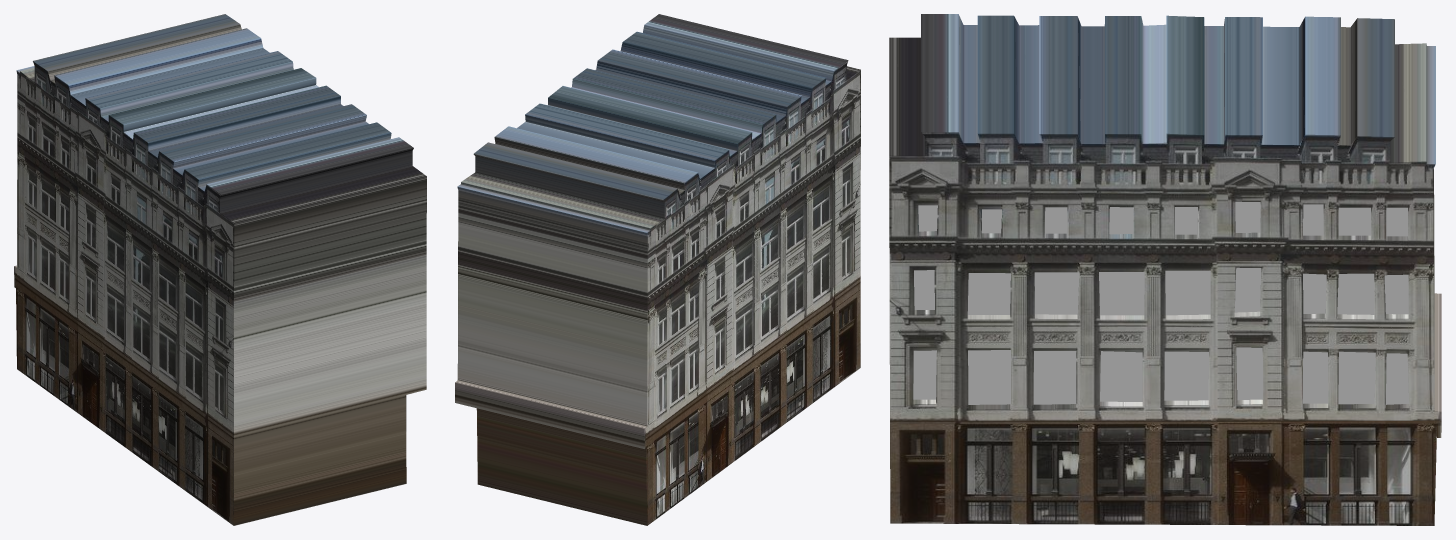
3 views of the same model, side by side, from view 1: azimuth 30°, elevation 25°; view 2: azimuth 150°, elevation 25°; view 3: azimuth 270°, elevation 25° (orthographic). The views are drawn at different scales.
Visible parts, largest first — view 1: ev_1; view 2: ev_1; view 3: ev_1.
Part boxes in pixels (x1=…): ev_1: x1=14, y1=14, x2=426, y2=525; ev_1: x1=455, y1=14, x2=860, y2=525; ev_1: x1=889, y1=14, x2=1441, y2=525.
Bounding box in the file's own units: 169 × 272 × 335.
2 materials, 1 textured.
